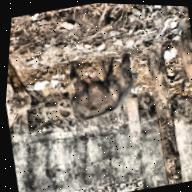boar: (58, 48, 142, 127)
